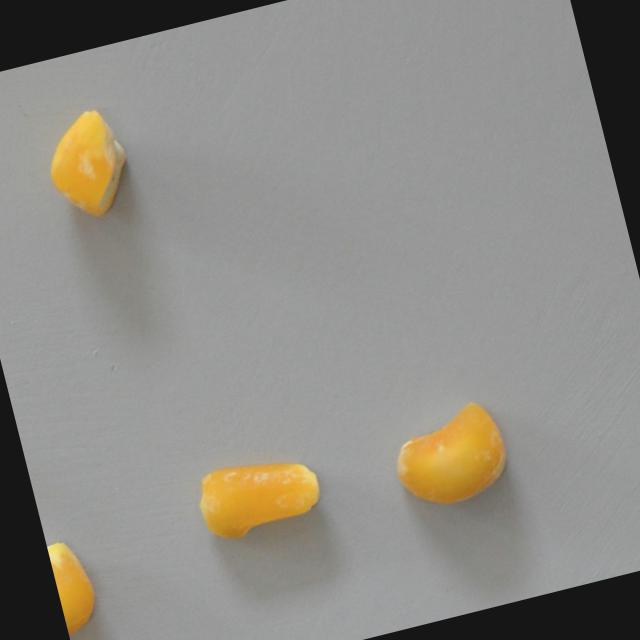no_canjicado: (35, 101, 139, 226), (45, 533, 103, 636)
pelicula: (383, 395, 516, 517), (191, 445, 330, 546)
